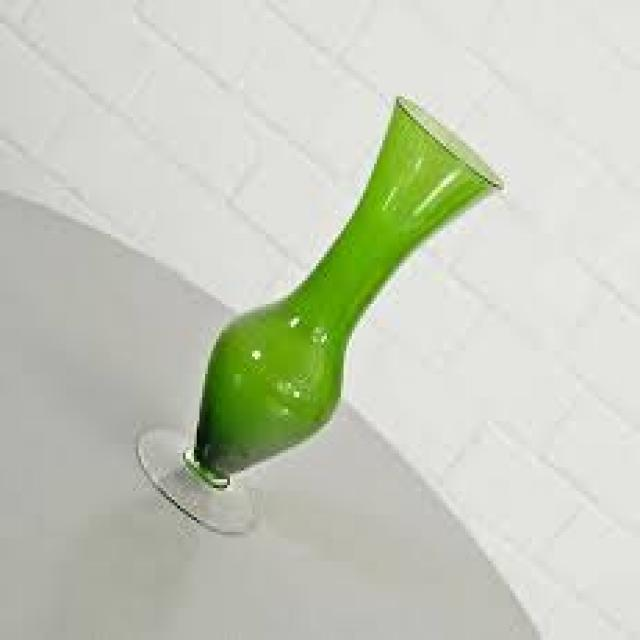Glass-Non-Biodegradable but Recyclable-: (141, 101, 503, 536)
